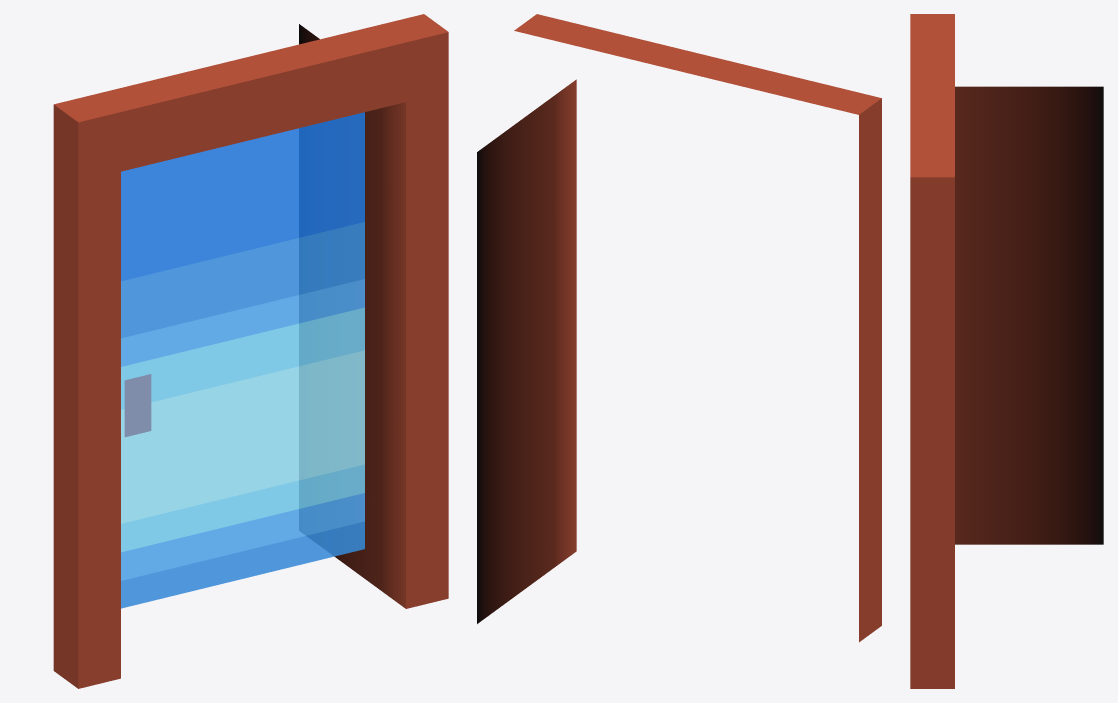
3 views of the same model, side by side, from view 1: azimuth 30°, elevation 25°; view 2: azimuth 150°, elevation 25°; view 3: azimuth 270°, elevation 25° (orthographic). The views are drawn at different scales.
Bounding box in the file's own units: 1.62 × 2.38 × 0.8125.
Materials: 3 (3 with a texture image).
